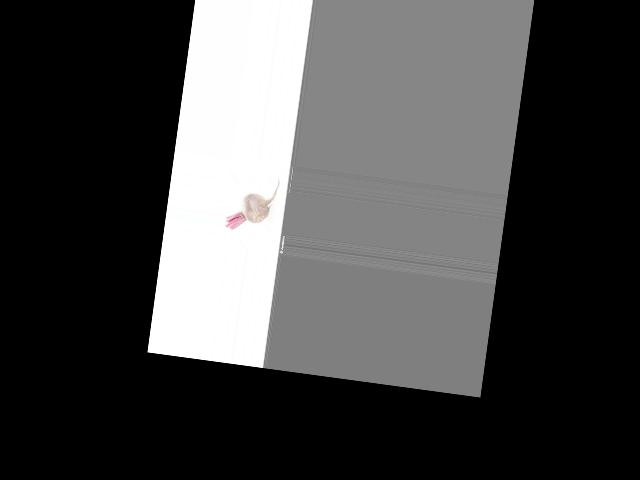beet: (225, 172, 280, 234)
